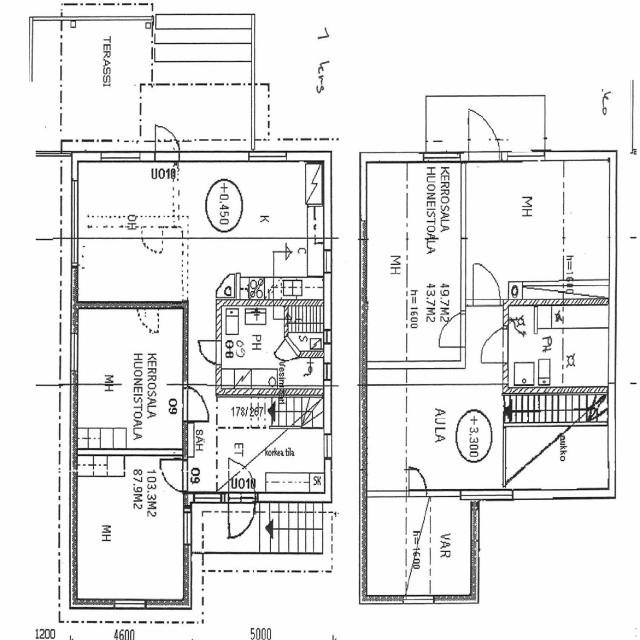door: (469, 106, 500, 160), (228, 457, 255, 504), (228, 493, 255, 540), (473, 262, 500, 306), (156, 118, 180, 162), (478, 328, 509, 362), (435, 314, 466, 347), (183, 389, 213, 422), (274, 336, 300, 370), (160, 460, 188, 490), (408, 466, 426, 497), (198, 340, 221, 364)
